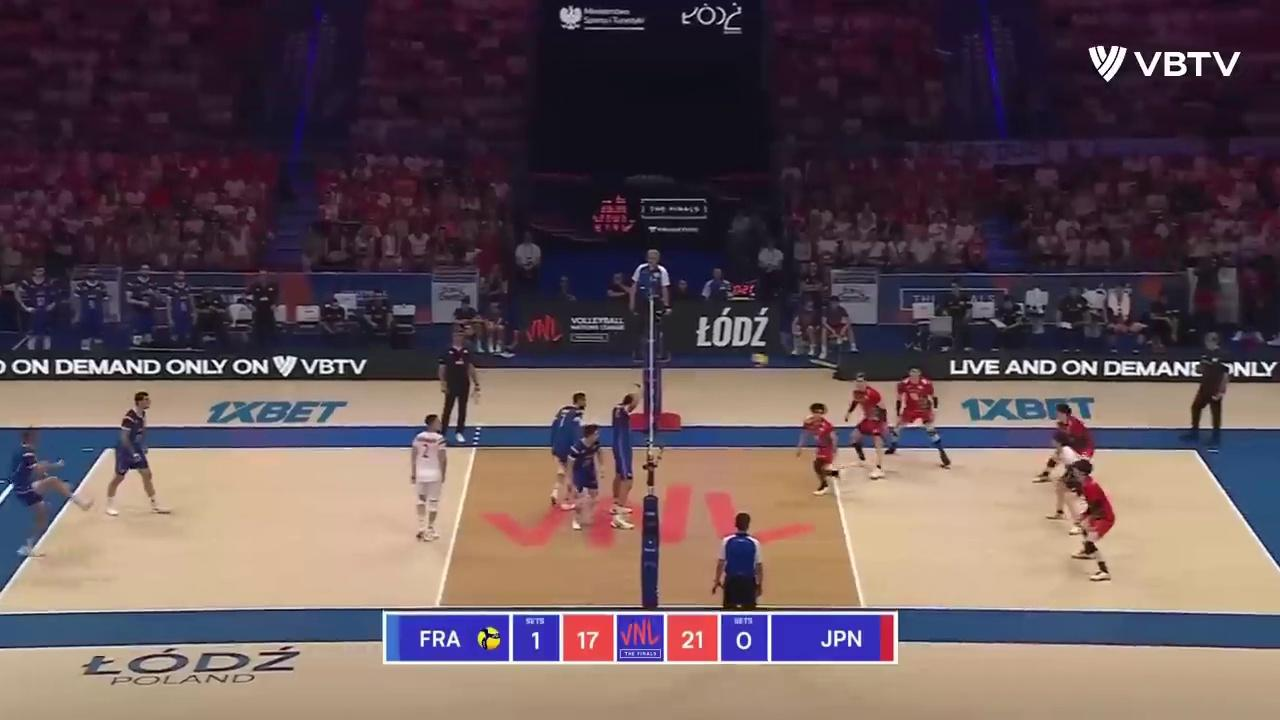ball: (752, 353, 769, 367)
